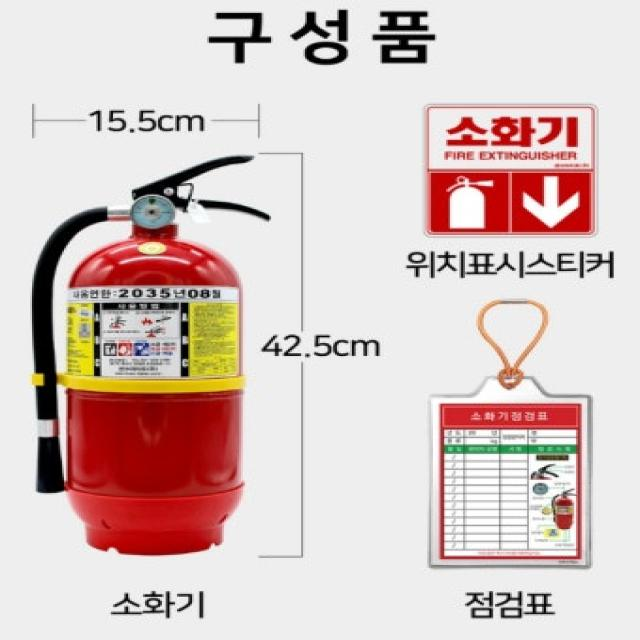pressure gauge: (130, 195, 175, 229)
